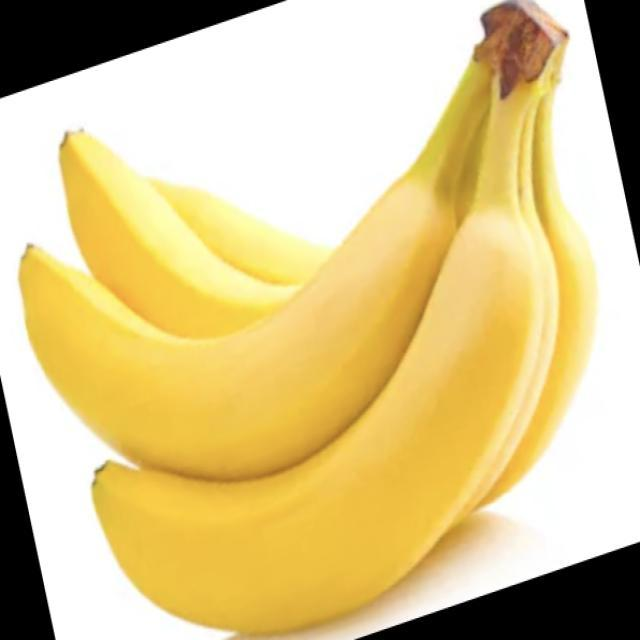Banana: (17, 0, 598, 635)
